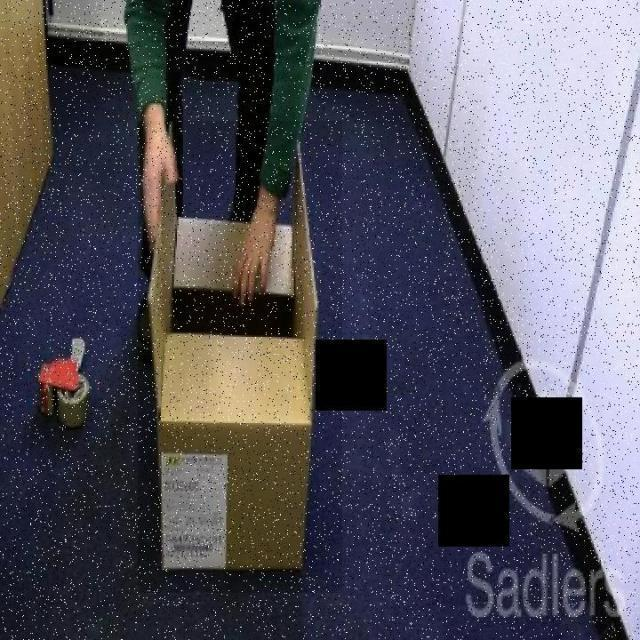box: (138, 121, 342, 593)
